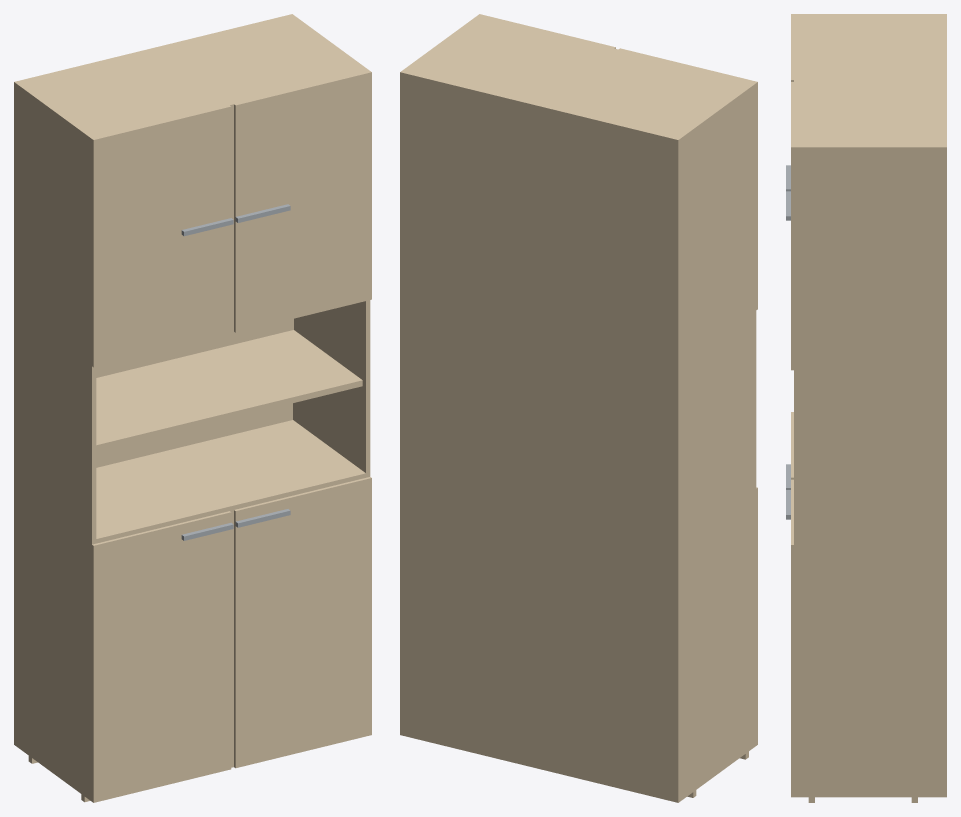
File: Closet_Type_4.fbx
3 views of the same model, side by side, from view 1: azimuth 30°, elevation 25°; view 2: azimuth 150°, elevation 25°; view 3: azimuth 270°, elevation 25° (orthographic).
Visible parts, largest first — view 1: Closet_Type_4; view 2: Closet_Type_4; view 3: Closet_Type_4.
Part boxes in pixels (<box>): Closet_Type_4: <box>14,14,371,802</box>; Closet_Type_4: <box>400,14,757,802</box>; Closet_Type_4: <box>786,14,946,802</box>.
Size of the model in its own units: 98 by 225 by 50.
